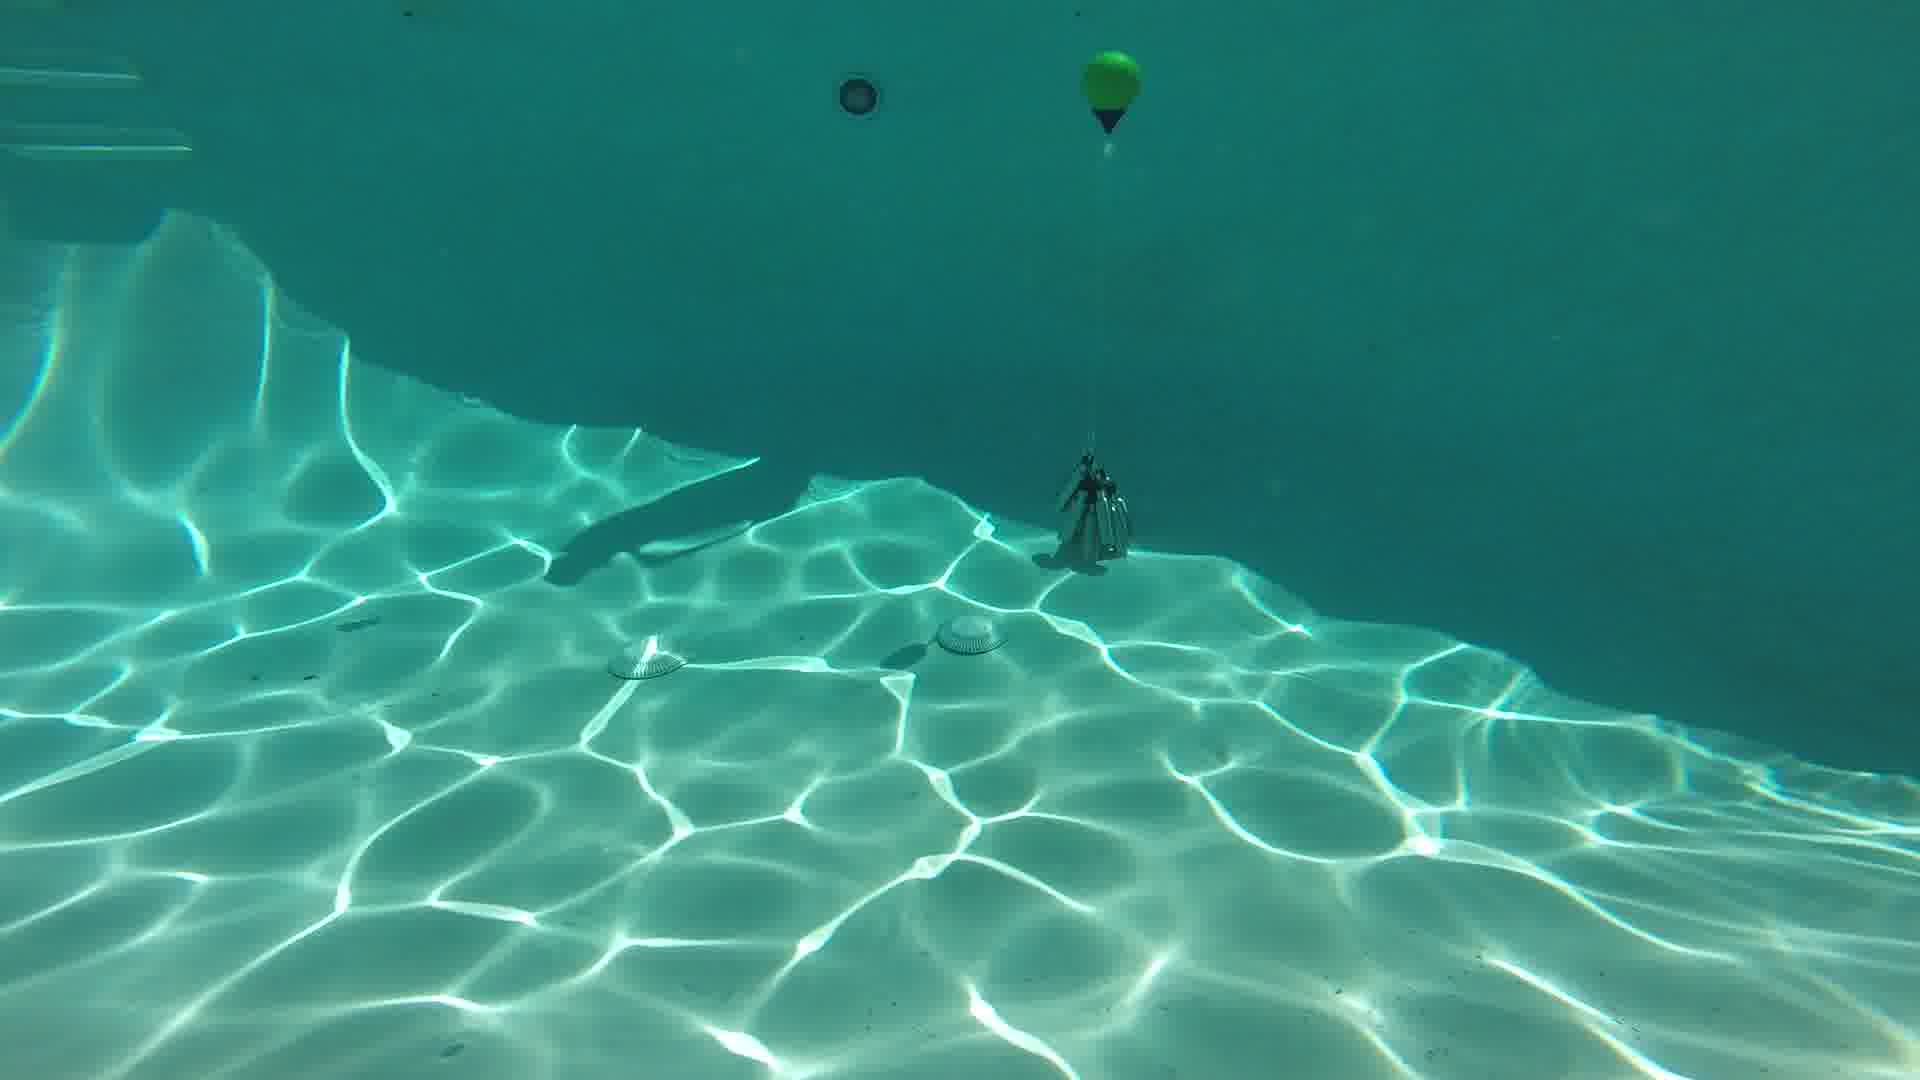yellow_buoy: (1083, 51, 1142, 136)
